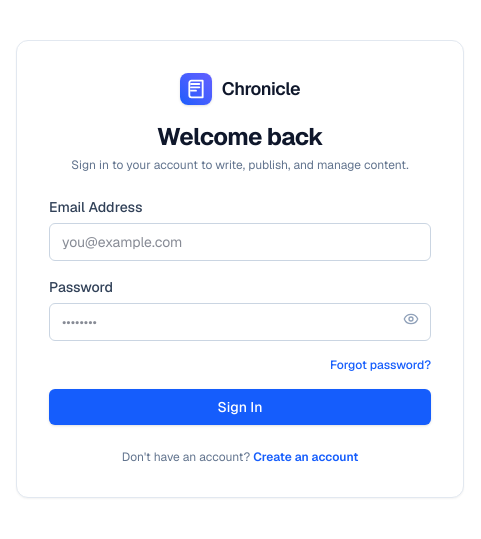
Test: LoginPage › shows validation errors when submitting an empty form
This screenshot has width=481, height=539.
Click the button "Sign In" at (240, 407), box [49,389,431,425]
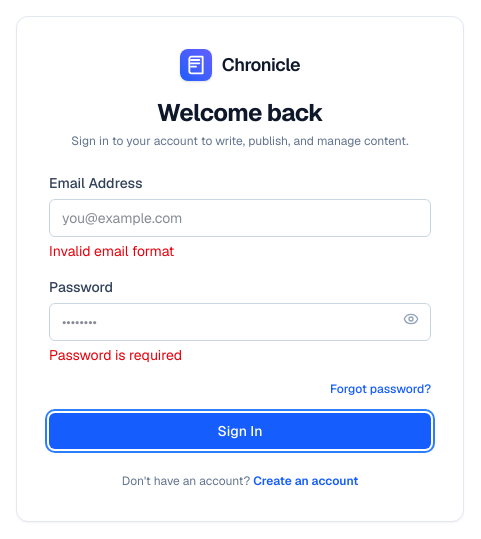
Check: the text "Invalid email format" is shown, box [49,242,174,260]
Check: the text "Password is required" is shown, box [49,346,182,364]
